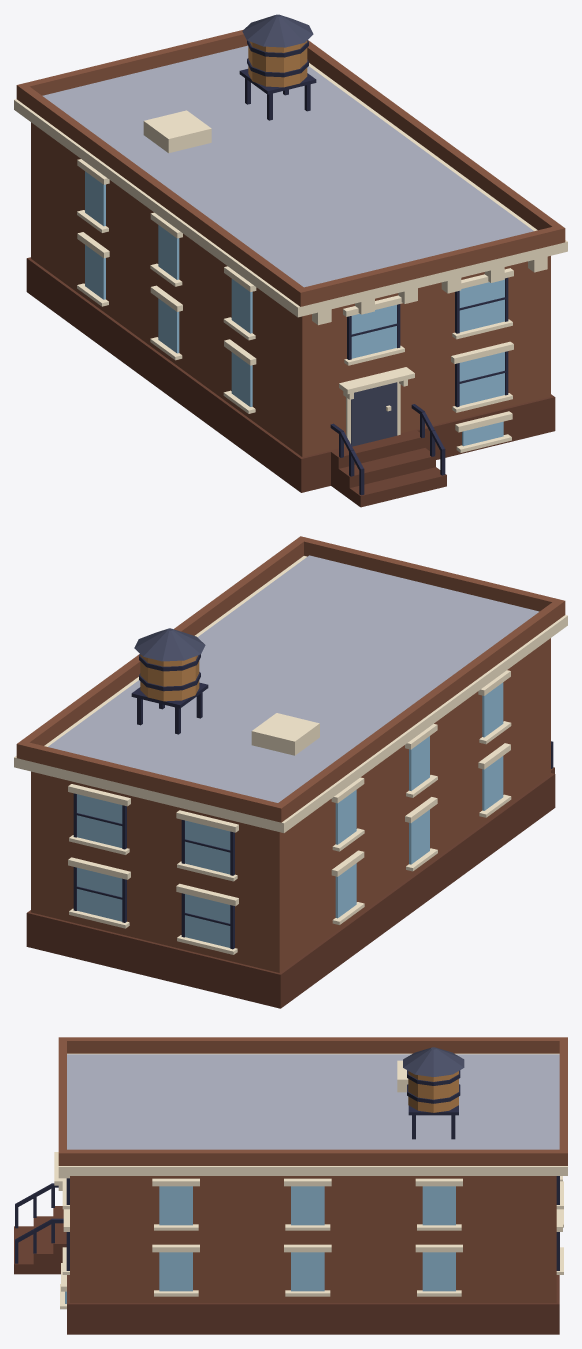
Rendered from house-1x2-2f-brownstone-a.glb.
3 views of the same model, one above another, from view 1: azimuth 30°, elevation 25°; view 2: azimuth 150°, elevation 25°; view 3: azimuth 270°, elevation 25° (orthographic). The views are drawn at different scales.
Parts seen in each view (by area): view 1: house-1x2-2f-brownstone-a; view 2: house-1x2-2f-brownstone-a; view 3: house-1x2-2f-brownstone-a.
Part boxes in pixels (x1,y1,x2,y2): house-1x2-2f-brownstone-a: (14,14,567,507); house-1x2-2f-brownstone-a: (14,536,567,1008); house-1x2-2f-brownstone-a: (14,1037,567,1334).
Bounding box in the file's own units: 1 × 1 × 1.98.
Materials: 1 (1 with a texture image).
